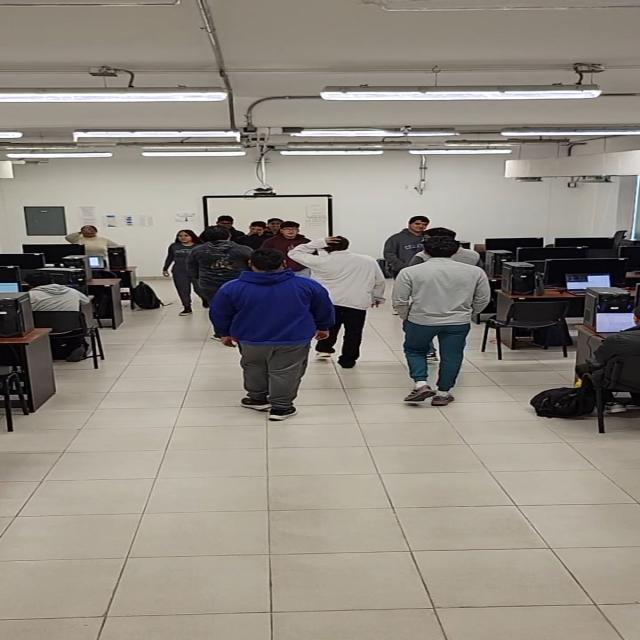Persona: (208, 247, 338, 421), (391, 235, 491, 407), (288, 235, 385, 368), (184, 225, 255, 305), (162, 229, 209, 315), (382, 215, 439, 278), (256, 221, 318, 278), (211, 215, 247, 243), (240, 221, 273, 249), (263, 218, 287, 238)
